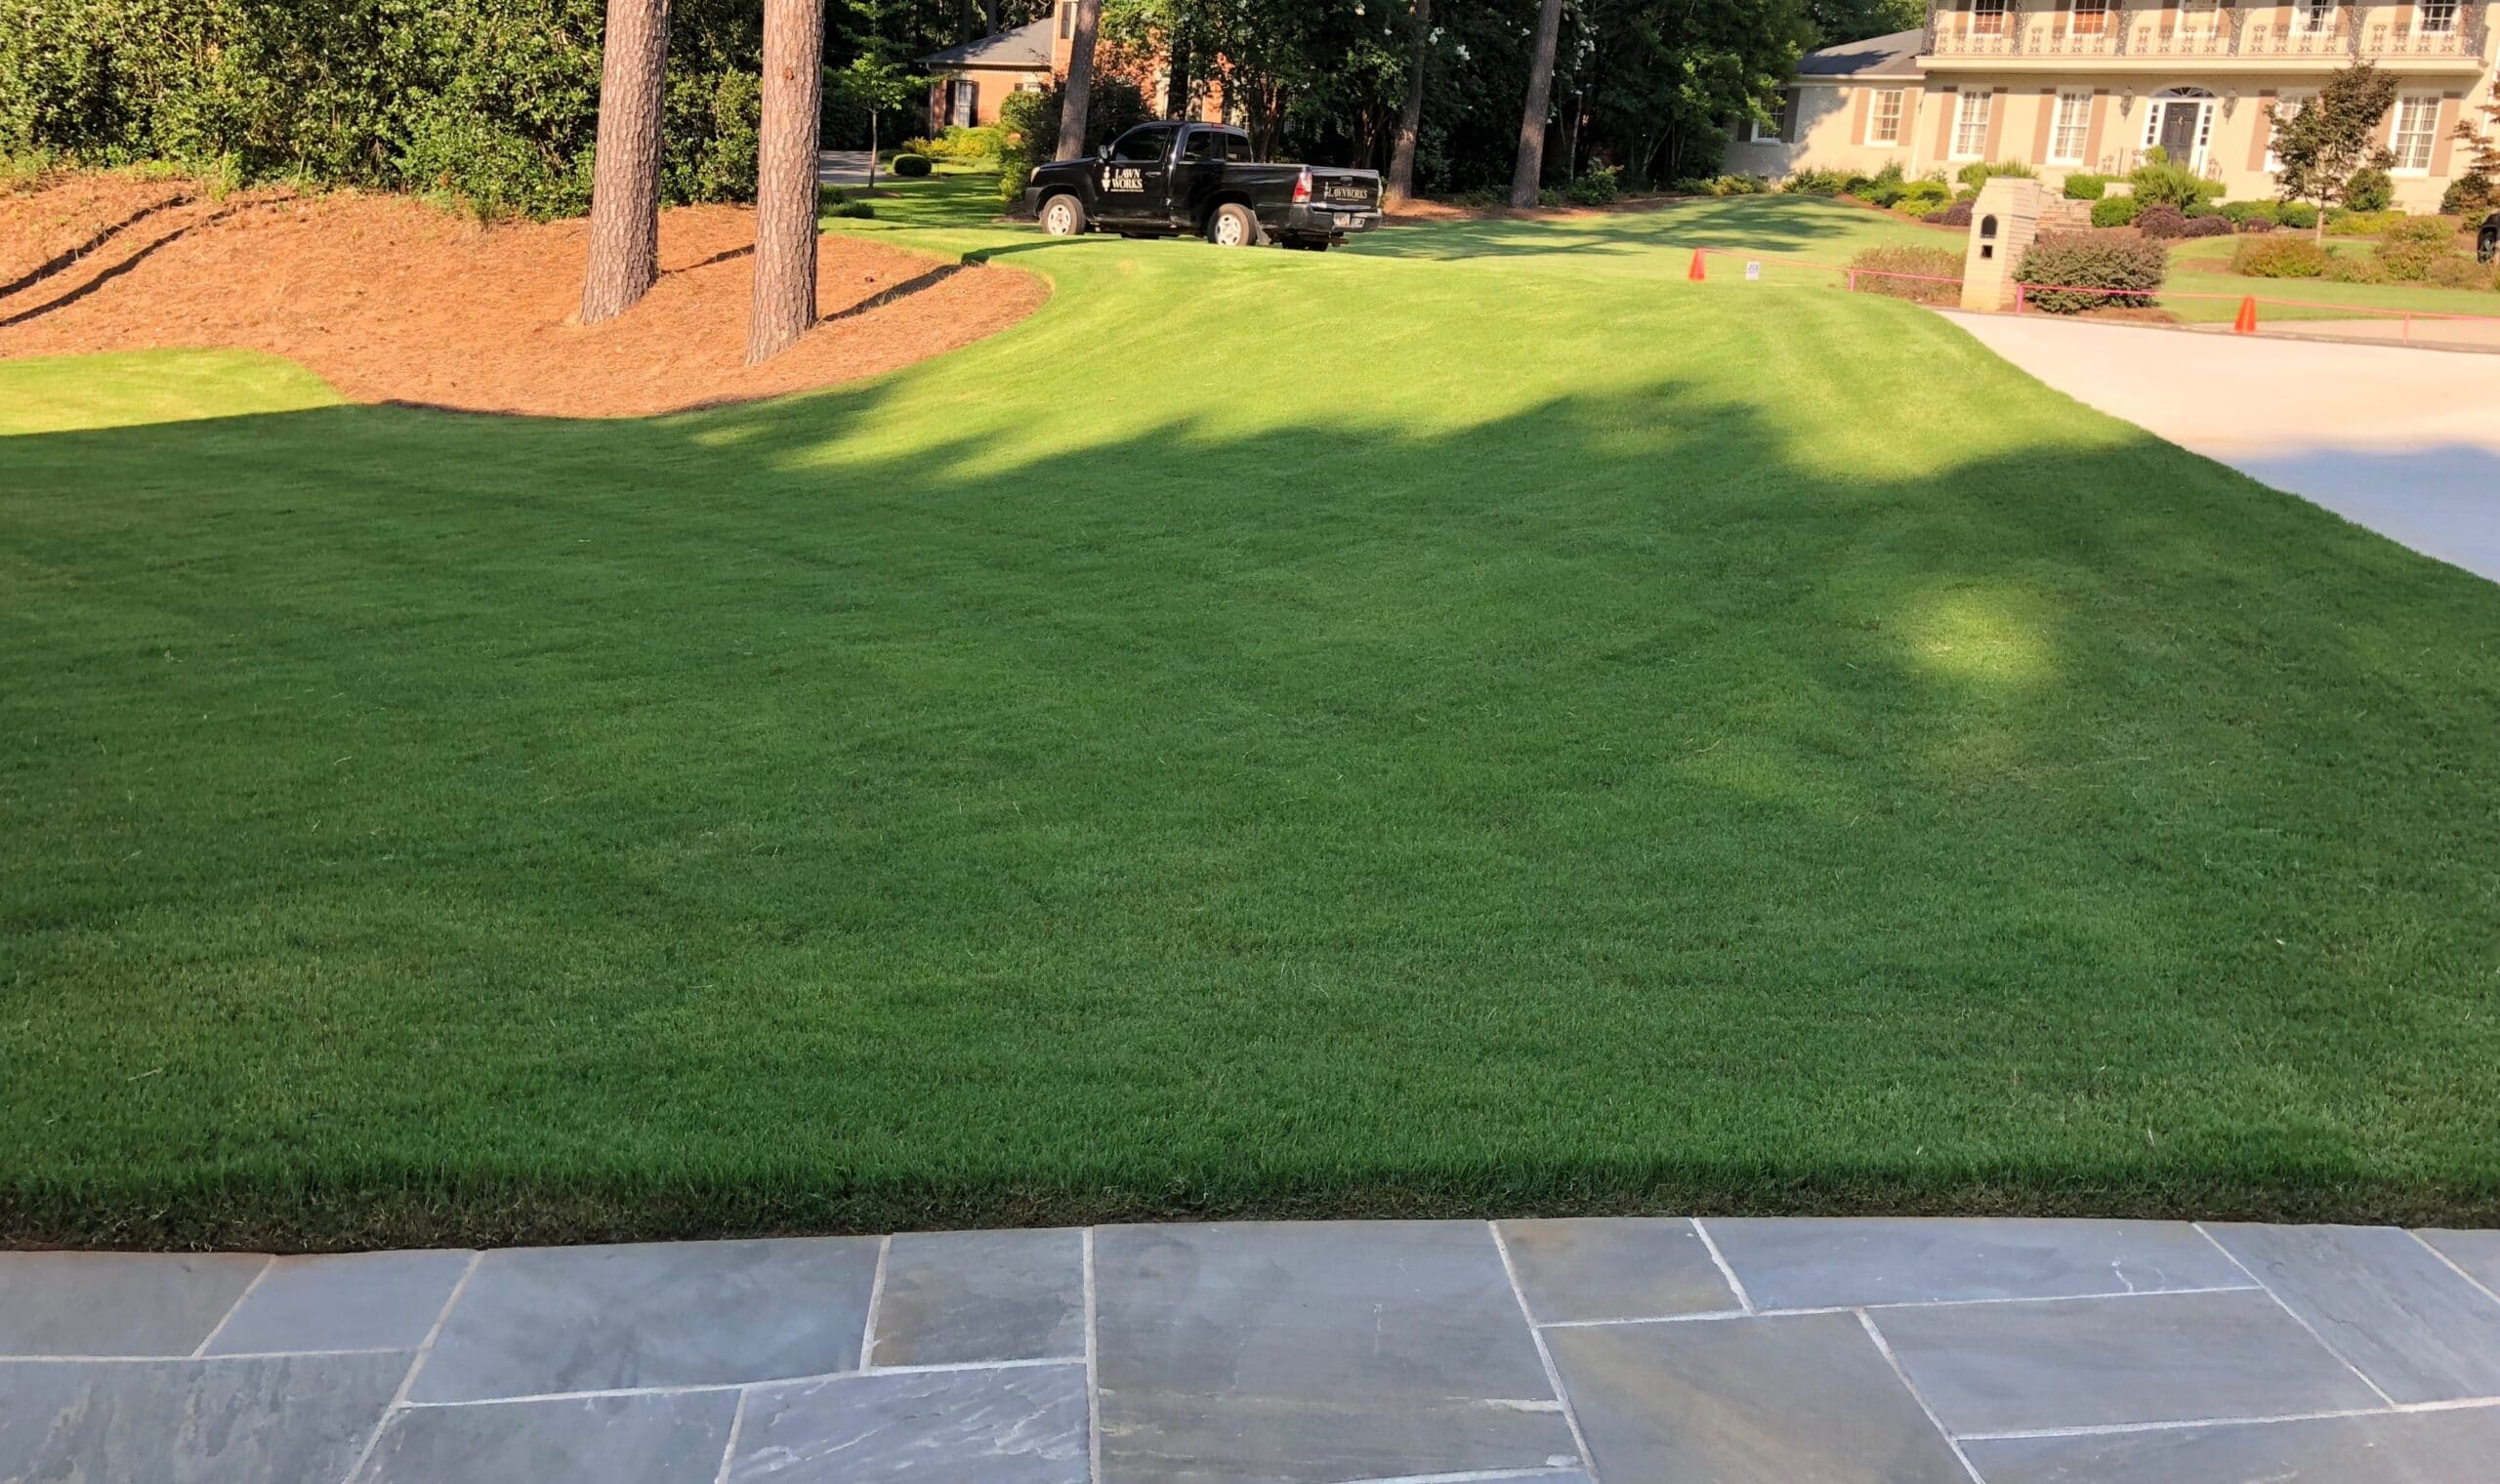grass: (7, 350, 2041, 1231), (2049, 398, 2489, 1201), (1062, 230, 1929, 350)
tree: (569, 12, 668, 316), (756, 0, 829, 346)
